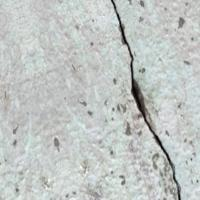crack: (98, 0, 185, 199)
